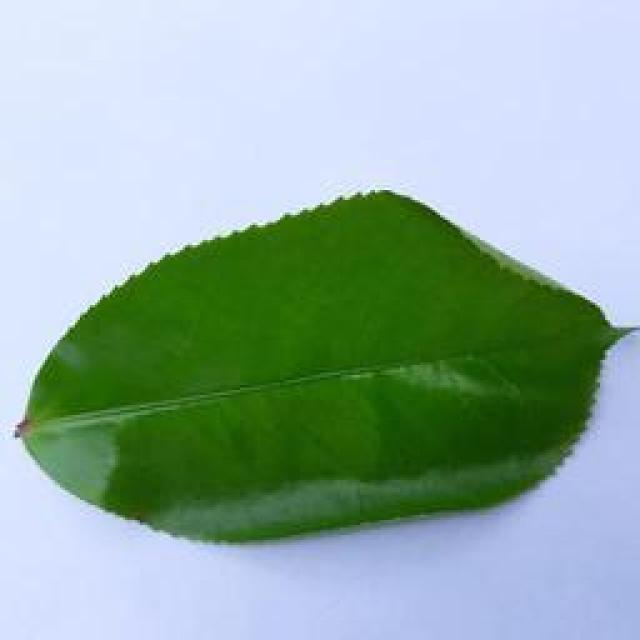Healthy: (10, 189, 637, 536)
